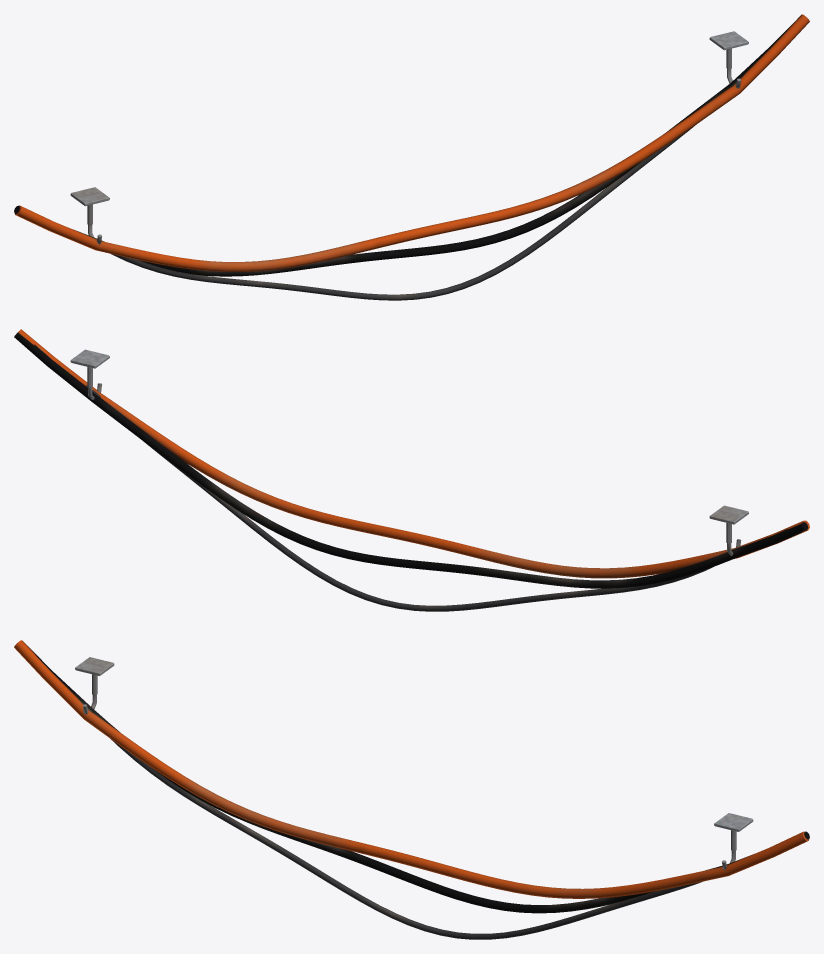
File: cable_sag.glb
3 renders of one model, top to bottom at view 1: azimuth 30°, elevation 25°; view 2: azimuth 150°, elevation 25°; view 3: azimuth 330°, elevation 25°, orthographic.
Parts seen in each view (by area): view 1: cable_sag; view 2: cable_sag; view 3: cable_sag.
Boxes of the visible parts, box(x1,y1,x2,y2) form: cable_sag: box(14, 14, 809, 300); cable_sag: box(14, 329, 809, 611); cable_sag: box(14, 640, 809, 939).
Size of the model in its own units: 3.72 by 0.851 by 0.154.
1 material, 1 textured.
